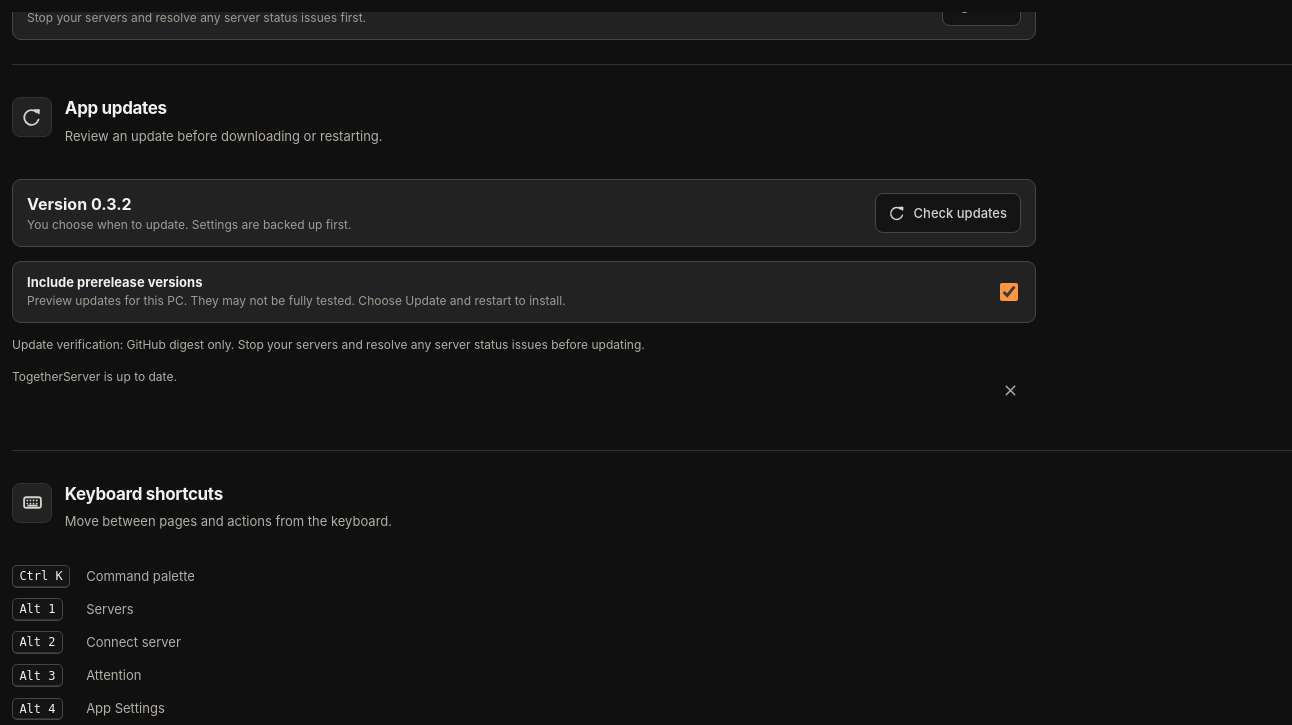
Test: prerelease update preferences › can turn a saved prerelease choice off using the returned canonical value
(page scrolled)
Click the checkbox labelled "Include prerelease versions": (1009, 292) [1000,283,1018,301]
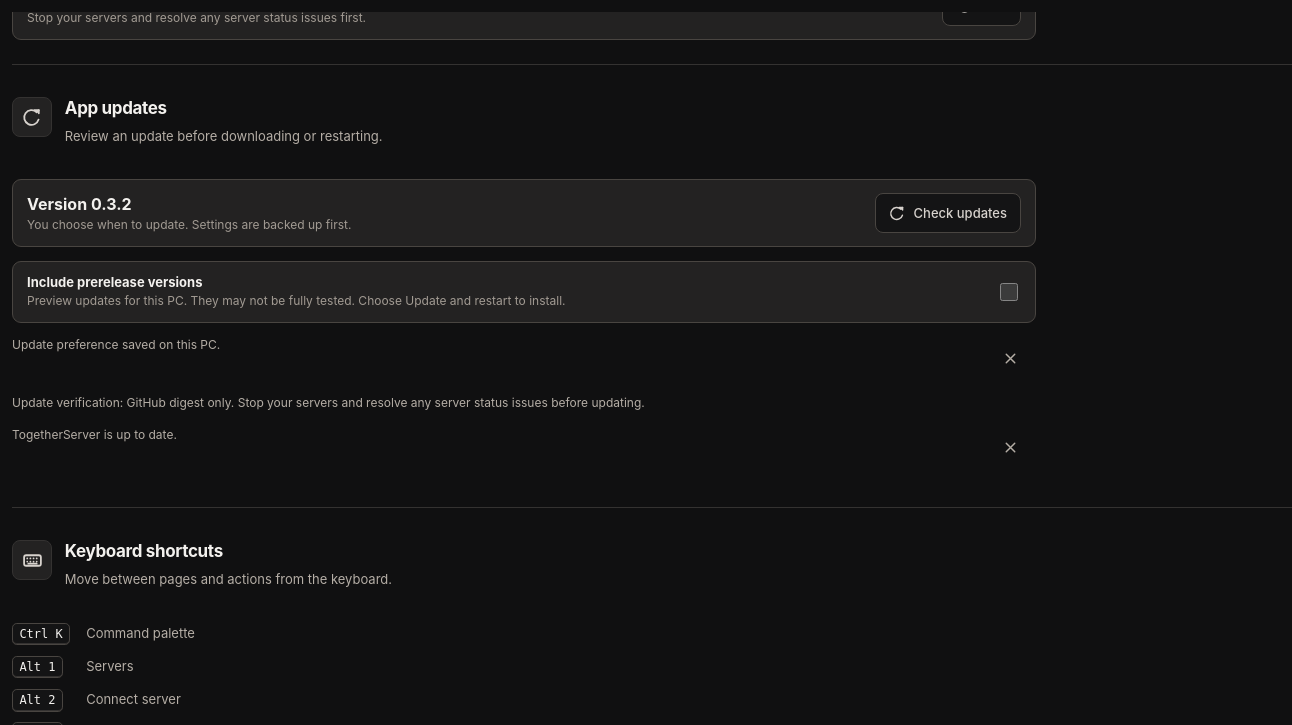
Check: the checkbox labelled "Include prerelease versions" is not checked, box [1000,283,1018,301]
Check: the text "Update preference saved on this PC." is shown, box [12,336,1036,380]
